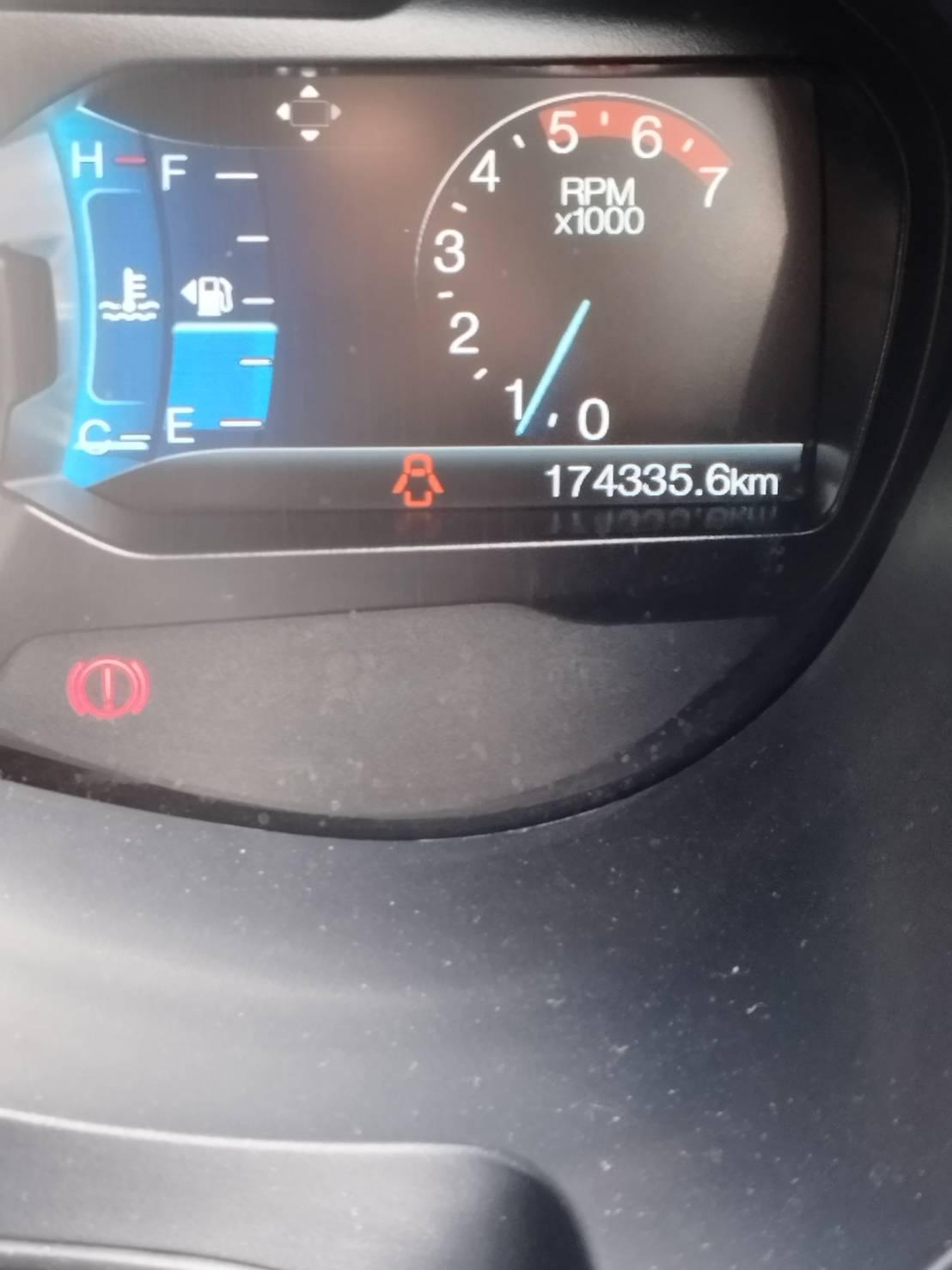-: (695, 488, 703, 497)
1: (542, 462, 562, 500)
3: (618, 463, 642, 498), (644, 462, 667, 498)
4: (594, 463, 617, 499)
5: (669, 462, 693, 497)
6: (704, 462, 730, 497)
7: (566, 463, 592, 499)
X: (750, 472, 779, 497), (731, 467, 749, 497)
odometer: (528, 449, 792, 505)
